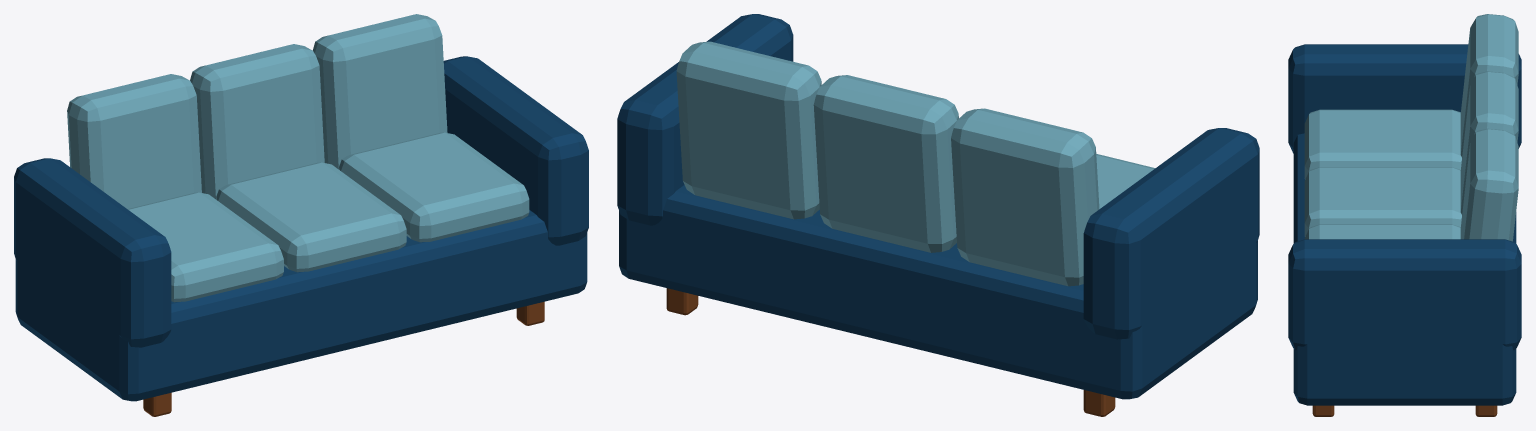
3 renders of one model, left to right at view 1: azimuth 30°, elevation 25°; view 2: azimuth 150°, elevation 25°; view 3: azimuth 270°, elevation 25°, orthographic. The views are drawn at different scales.
Parts seen in each view (by area): view 1: FRAME_Base, ARM.001, BACK_Cushion, BACK_Cushion.002, ARM, BACK_Cushion.001, SEAT_Cushion.002, SEAT_Cushion.001, SEAT_Cushion, FOOT, FOOT.002; view 2: FRAME_Base, ARM.001, BACK_Cushion, BACK_Cushion.002, BACK_Cushion.001, ARM, SEAT_Cushion, FOOT.003, FOOT.001; view 3: ARM, FRAME_Base, ARM.001, SEAT_Cushion, SEAT_Cushion.001, BACK_Cushion, BACK_Cushion.001, BACK_Cushion.002, SEAT_Cushion.002, FOOT.002, FOOT.003.
Boxes of the visible parts, x1,y1,x2,y2 form: FRAME_Base: (15, 210, 587, 401); ARM.001: (14, 158, 171, 347); BACK_Cushion: (313, 14, 447, 169); BACK_Cushion.002: (190, 44, 324, 199); ARM: (443, 56, 588, 245); BACK_Cushion.001: (67, 74, 201, 208); SEAT_Cushion.002: (339, 132, 529, 242); SEAT_Cushion.001: (216, 162, 406, 272); SEAT_Cushion: (127, 192, 283, 302); FOOT: (143, 392, 171, 416); FOOT.002: (516, 301, 544, 325); FRAME_Base: (619, 185, 1257, 399); ARM.001: (1083, 128, 1259, 339); BACK_Cushion: (676, 41, 821, 219); BACK_Cushion.002: (813, 75, 958, 252); BACK_Cushion.001: (951, 108, 1099, 286); ARM: (617, 14, 793, 225); SEAT_Cushion: (1096, 154, 1155, 208); FOOT.003: (666, 288, 698, 315); FOOT.001: (1083, 390, 1115, 416); ARM: (1288, 239, 1521, 350); FRAME_Base: (1293, 133, 1516, 405); ARM.001: (1288, 44, 1521, 153); SEAT_Cushion: (1304, 109, 1461, 179); SEAT_Cushion.001: (1304, 167, 1461, 236); BACK_Cushion: (1460, 128, 1518, 241); BACK_Cushion.001: (1460, 14, 1518, 157); BACK_Cushion.002: (1460, 71, 1518, 214); SEAT_Cushion.002: (1304, 224, 1460, 239); FOOT.002: (1312, 405, 1334, 416); FOOT.003: (1475, 405, 1497, 416).
Size of the model in its own units: 1.9 by 0.9517 by 0.86.
